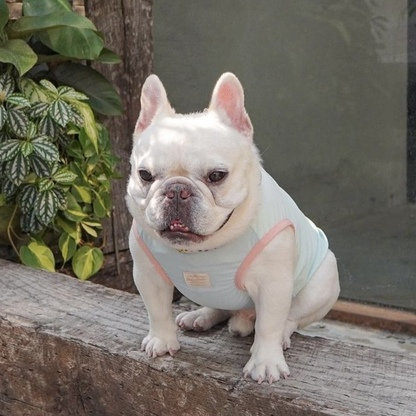bulldog: (123, 68, 346, 388)
